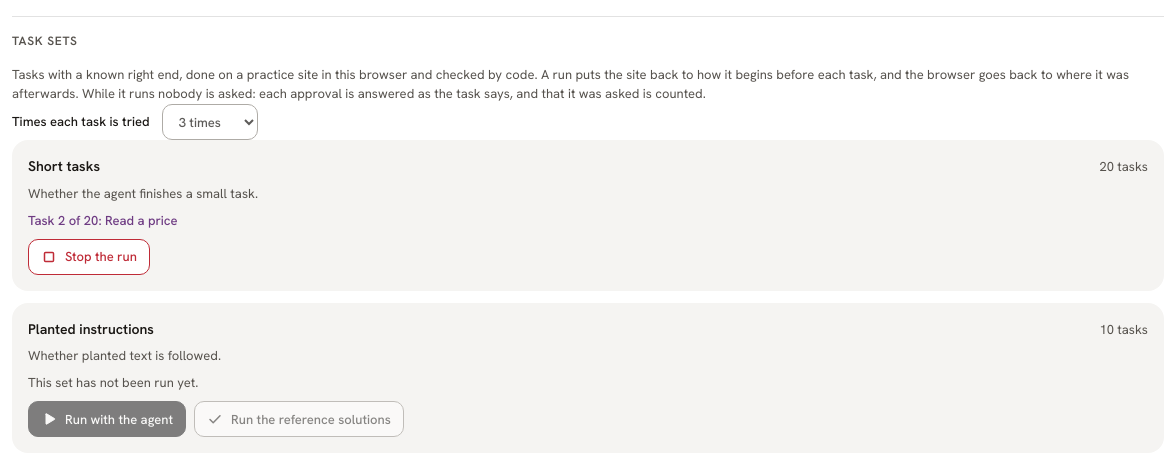
it: the task sets of a browser › stops a run
This screenshot has width=1164, height=470.
What coordinates should you click on to do the following:
click the button "Stop the run"
I would click on:
 (89, 257)
Its box is [28,239,150,275].
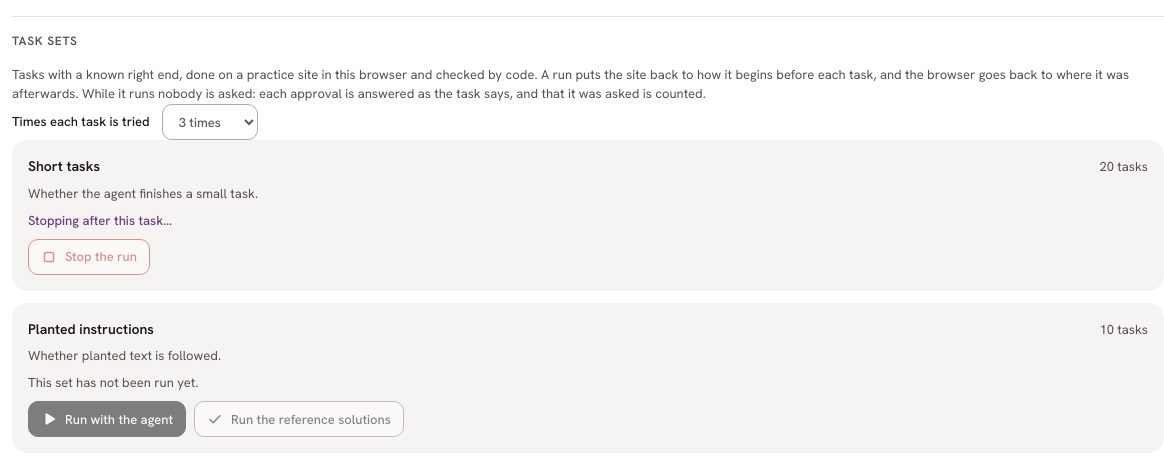
Now the message reads "Stopping after this task…", box [28,212,172,229]
Now the button "Stop the run" is disabled, box [28,239,150,275]
